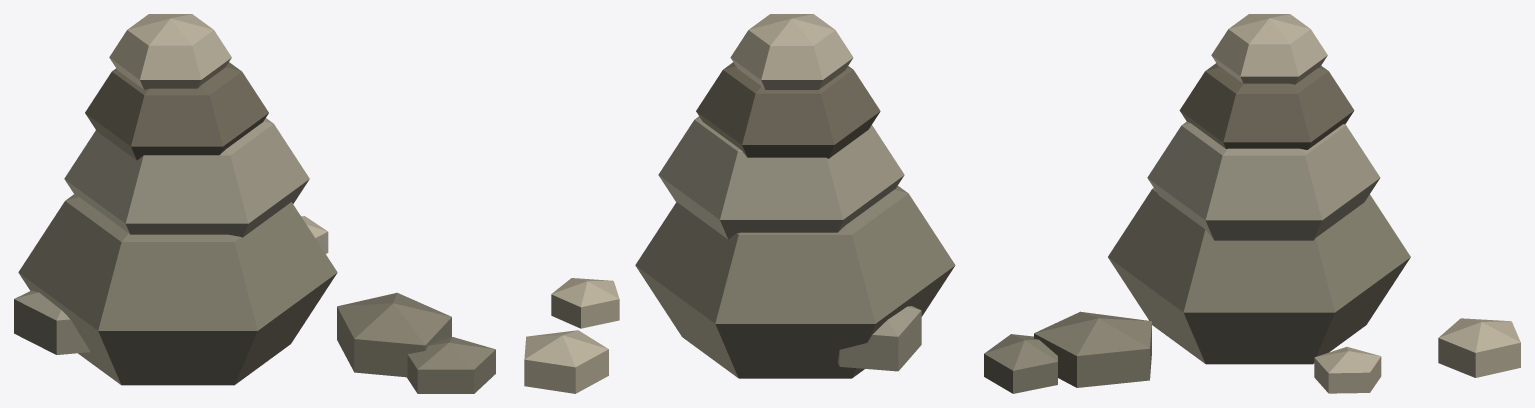
Rendered from cover_wayside_cairn.glb.
3 views of the same model, side by side, from view 1: azimuth 30°, elevation 25°; view 2: azimuth 150°, elevation 25°; view 3: azimuth 270°, elevation 25° (orthographic). The views are drawn at different scales.
Parts seen in each view (by area): view 1: cover_wayside_cairn; view 2: cover_wayside_cairn; view 3: cover_wayside_cairn.
Boxes of the visible parts, x1=… form: cover_wayside_cairn: x1=14, y1=14, x2=495, y2=393; cover_wayside_cairn: x1=524, y1=14, x2=955, y2=393; cover_wayside_cairn: x1=984, y1=14, x2=1520, y2=393.
Size of the model in its own units: 0.6047 by 0.632 by 0.9206.
